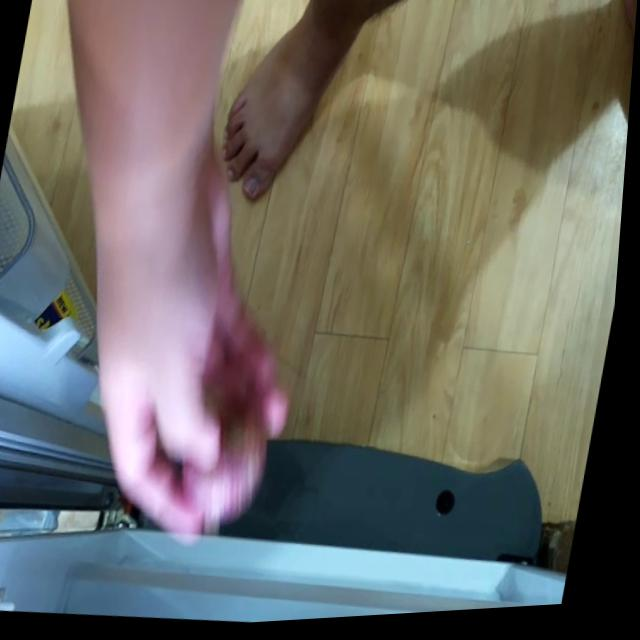onion: (175, 404, 283, 532)
